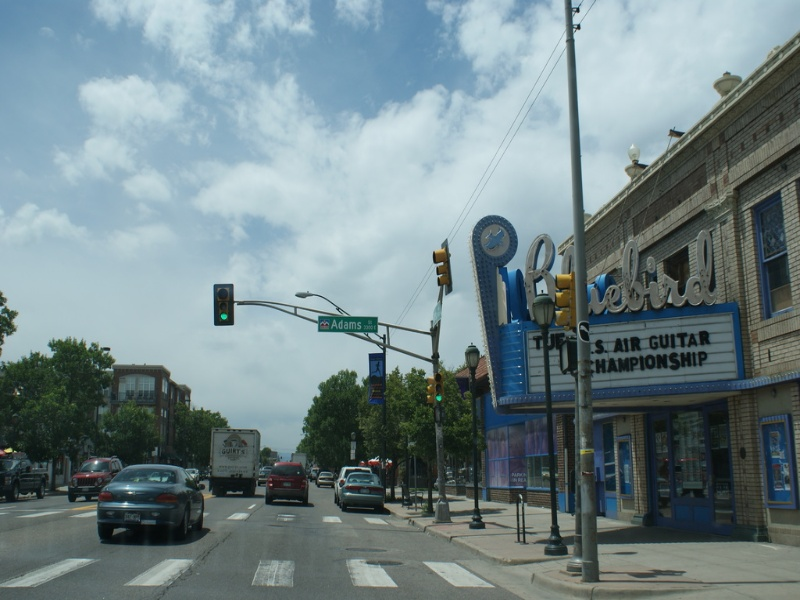green_light: (213, 283, 247, 330)
